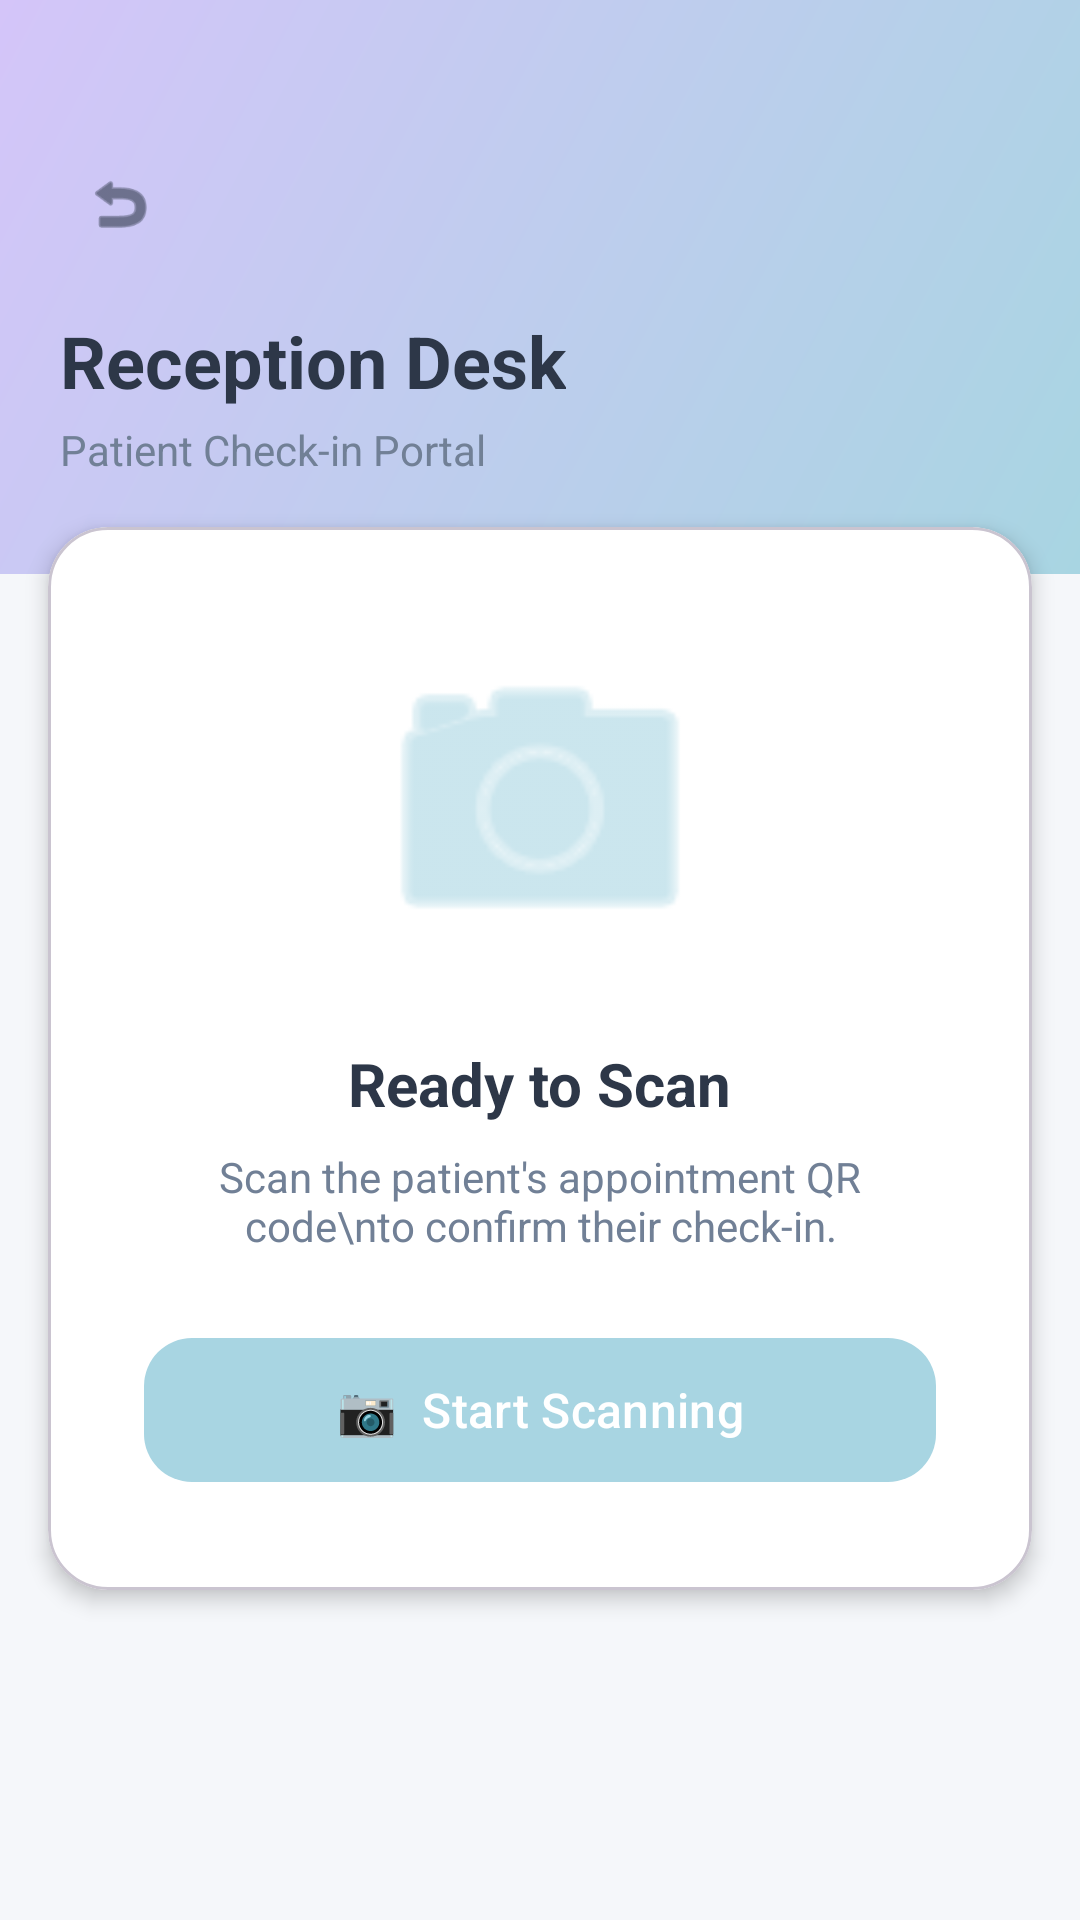

Where icons sit on this 1080×1920 app screen, as (x1, y1, x2, y2):
camera: (403, 689, 677, 906)
revert: (95, 181, 147, 228)
